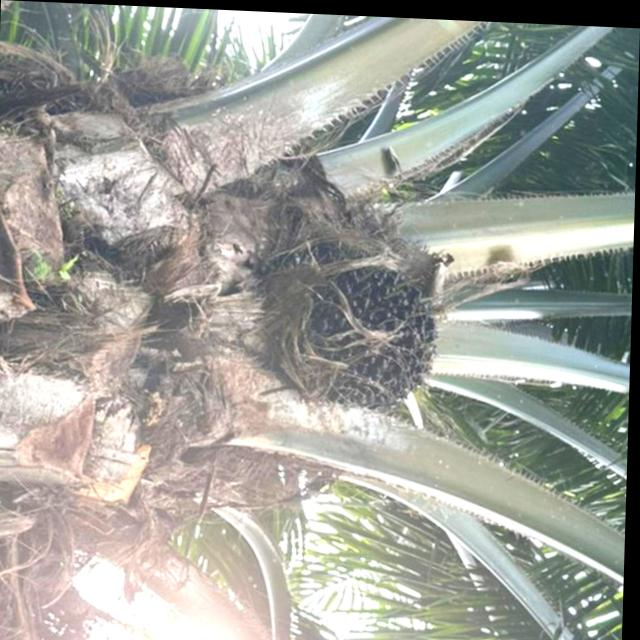unripe: (259, 219, 451, 413)
